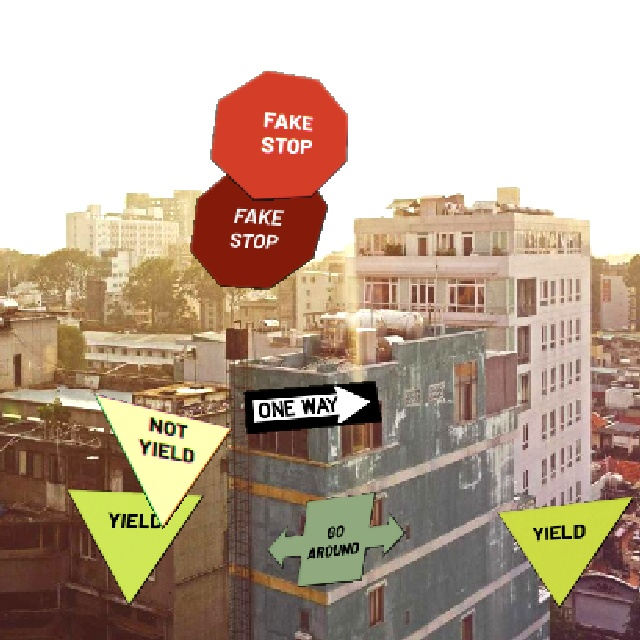FAKE_STOP: (208, 68, 347, 199), (188, 158, 327, 288)
GO_AROUND: (265, 490, 404, 586)
NOT_YIELD: (92, 392, 231, 528)
ONE_WAY_ right: (242, 379, 381, 433)
YIELD: (64, 487, 203, 605), (495, 494, 634, 607)
